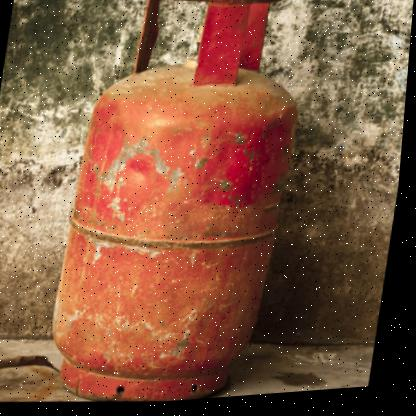gas-tank: (40, 0, 327, 411)
